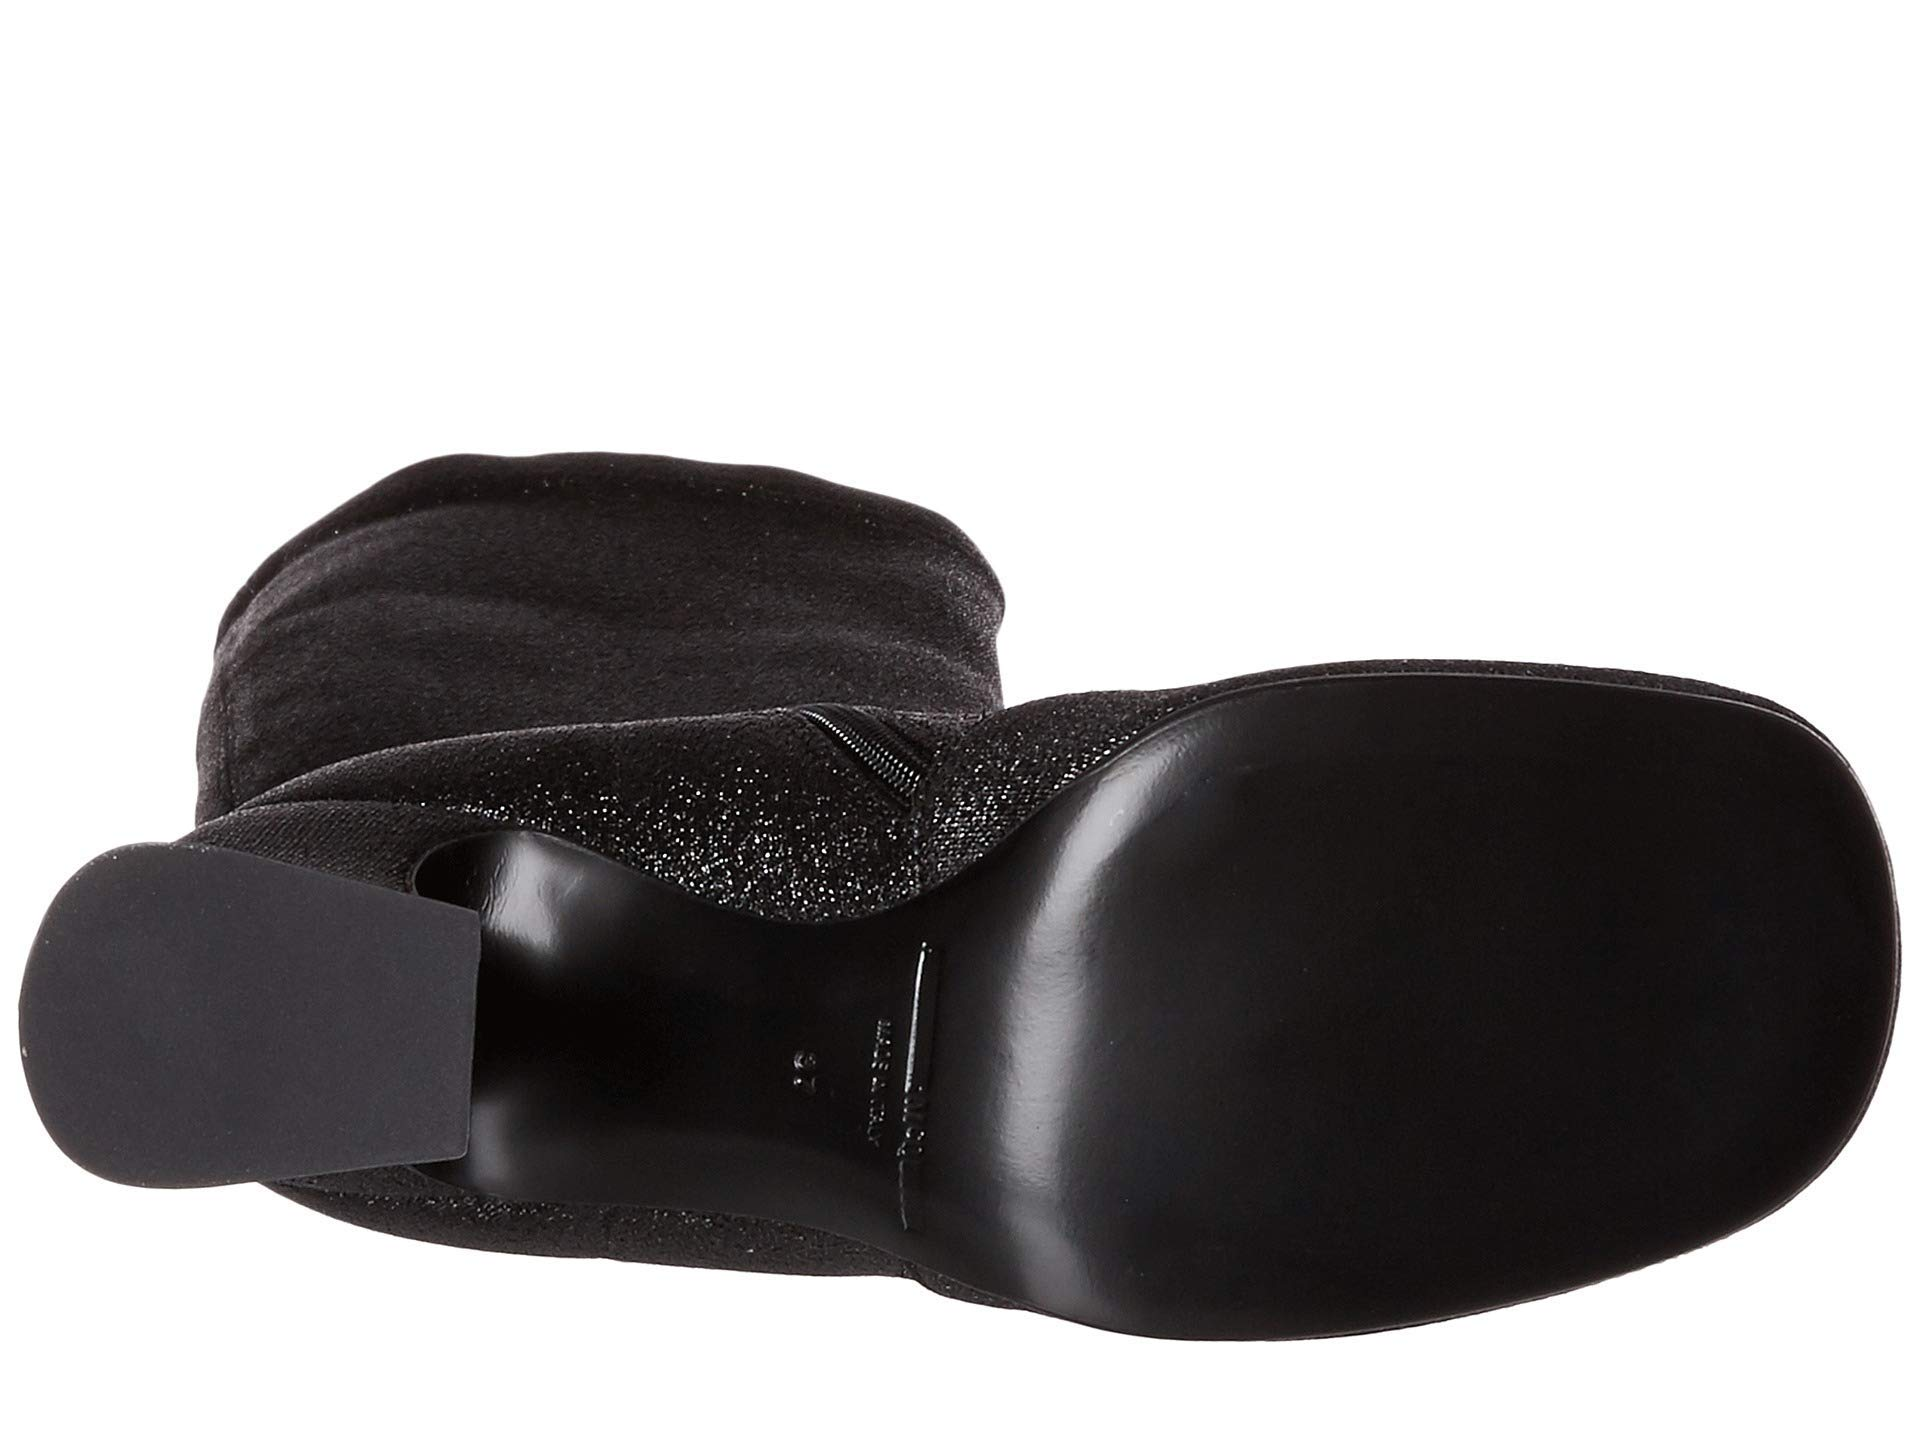other: (1237, 793, 1637, 1162)
